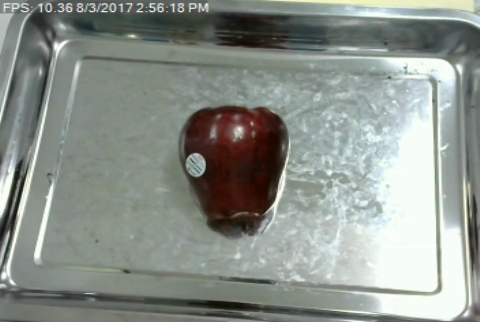Apple: (172, 101, 291, 224)
